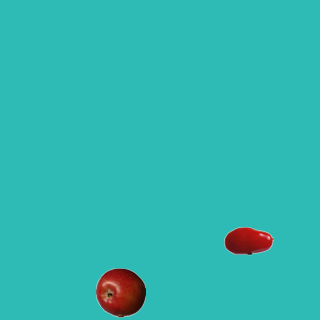Apple Braeburn: (95, 267, 145, 317)
Tomato 2: (223, 215, 273, 265)
